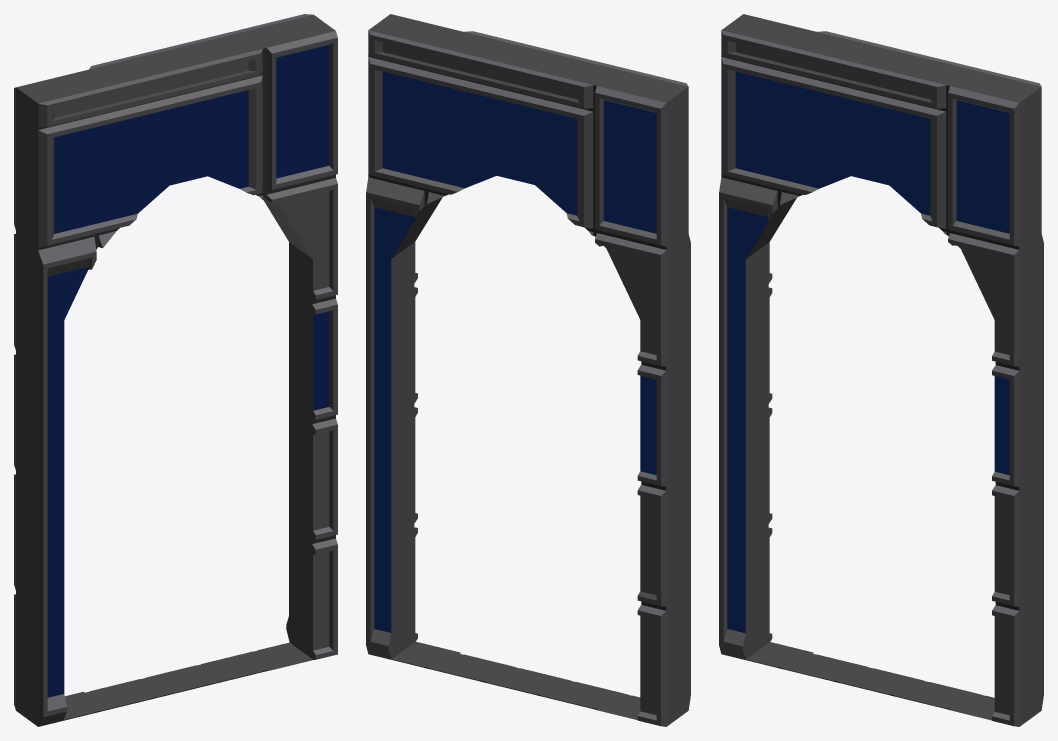
File: CyberpunkDoorframe.glb
3 renders of one model, left to right at view 1: azimuth 30°, elevation 25°; view 2: azimuth 150°, elevation 25°; view 3: azimuth 330°, elevation 25°, orthographic.
Visible parts, largest first — view 1: wall_cyberpunk_door; view 2: wall_cyberpunk_door; view 3: wall_cyberpunk_door.
Part boxes in pixels (box(x1,y1,x2,y2)): wall_cyberpunk_door: box(14, 14, 337, 726); wall_cyberpunk_door: box(366, 14, 690, 726); wall_cyberpunk_door: box(719, 14, 1043, 726).
Size of what is drawn, in the model's own units: 2 by 4 by 0.342.
Materials: 2 (2 with a texture image).
